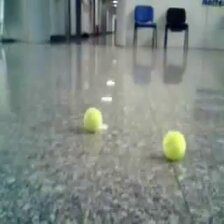tennis: (162, 130, 186, 161), (83, 108, 102, 131)
